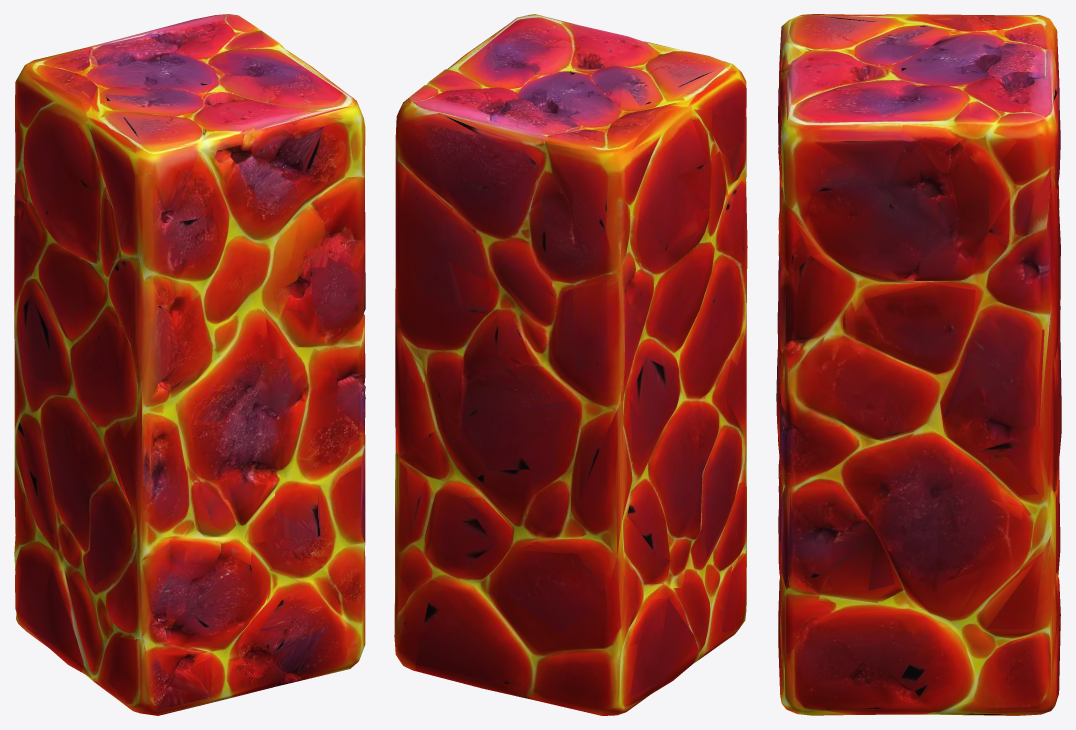
File: alev_tas_uzun_kup.glb
3 renders of one model, left to right at view 1: azimuth 30°, elevation 25°; view 2: azimuth 150°, elevation 25°; view 3: azimuth 270°, elevation 25°, orthographic. The views are drawn at different scales.
Visible parts, largest first — view 1: tripo_node_7f9552ac-a810-42a3-b753-8c2b2f7e3a0c; view 2: tripo_node_7f9552ac-a810-42a3-b753-8c2b2f7e3a0c; view 3: tripo_node_7f9552ac-a810-42a3-b753-8c2b2f7e3a0c.
Part boxes in pixels (left/top/right/bottom): tripo_node_7f9552ac-a810-42a3-b753-8c2b2f7e3a0c: left=14, top=14, right=365, bottom=715; tripo_node_7f9552ac-a810-42a3-b753-8c2b2f7e3a0c: left=394, top=14, right=747, bottom=715; tripo_node_7f9552ac-a810-42a3-b753-8c2b2f7e3a0c: left=776, top=14, right=1061, bottom=715.
Bounding box in the file's own units: 0.4289 × 0.9788 × 0.421.
Materials: 1 (1 with a texture image).
